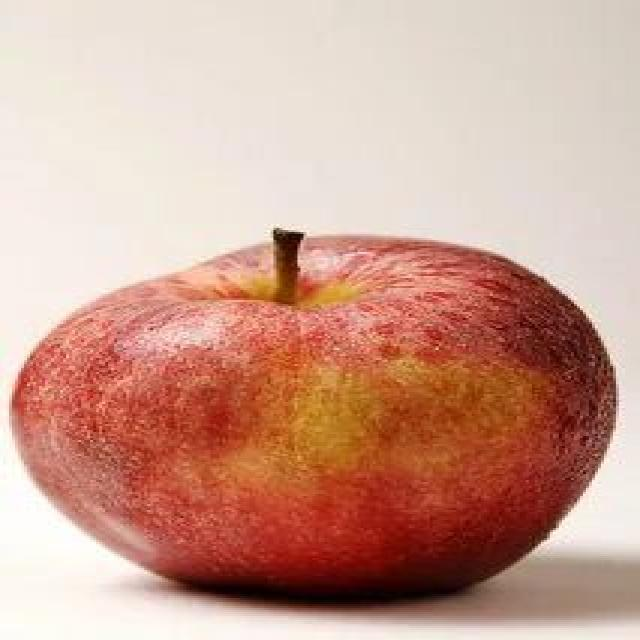Healty Apple: (12, 239, 607, 607)
